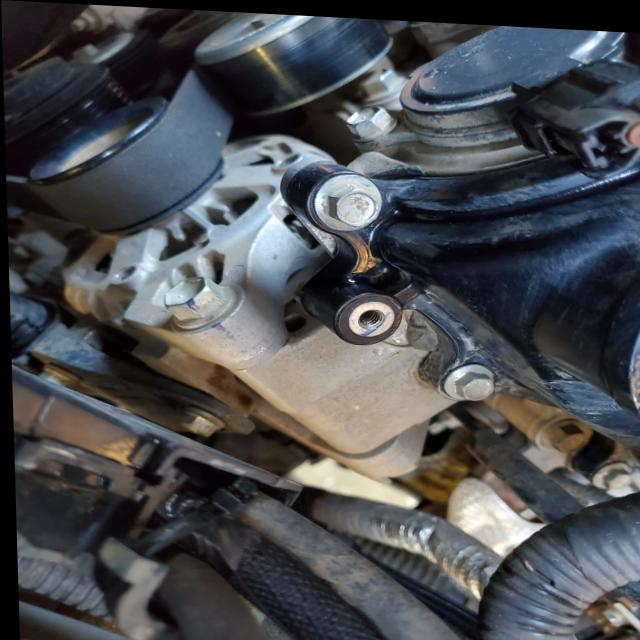Missing bolt: (342, 293, 397, 338)
Regular bolt: (160, 275, 237, 332), (324, 183, 379, 228), (443, 360, 493, 398), (346, 103, 395, 139), (540, 417, 592, 449), (592, 458, 628, 485), (176, 412, 218, 435)
